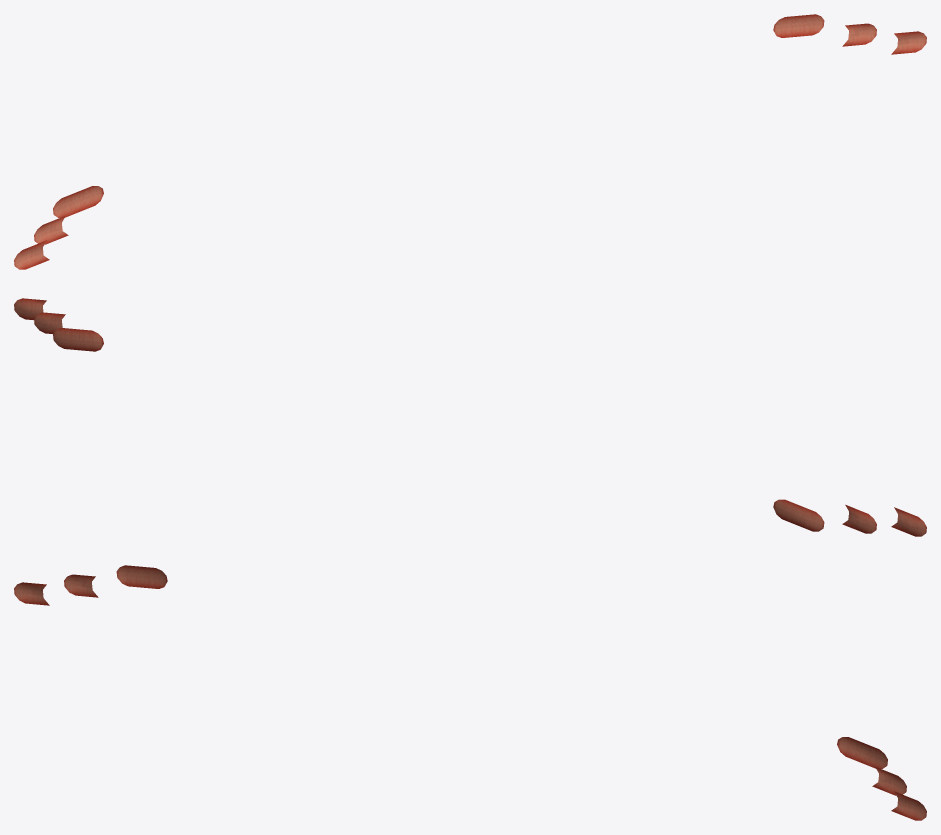
The model's file is vt49_booster_s02_on_l0.fbx.
The picture shows the model from 3 angles, top to bottom: view 1: azimuth 30°, elevation 25°; view 2: azimuth 150°, elevation 25°; view 3: azimuth 330°, elevation 25°; orthographic projection.
Parts seen in each view (by area): view 1: mesh_node; view 2: mesh_node; view 3: mesh_node.
Part boxes in pixels (bbox=[...]): mesh_node: bbox=[14, 14, 926, 269]; mesh_node: bbox=[14, 298, 926, 536]; mesh_node: bbox=[14, 565, 926, 820].
Size of the model in its own units: 30.48 by 1.16 by 1.91.
Materials: 1 (1 with a texture image).
